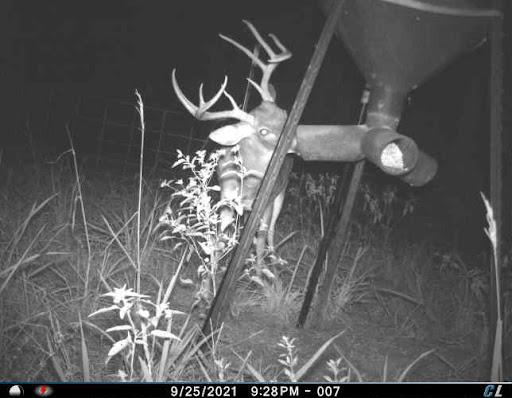Deer: (167, 13, 298, 302)
